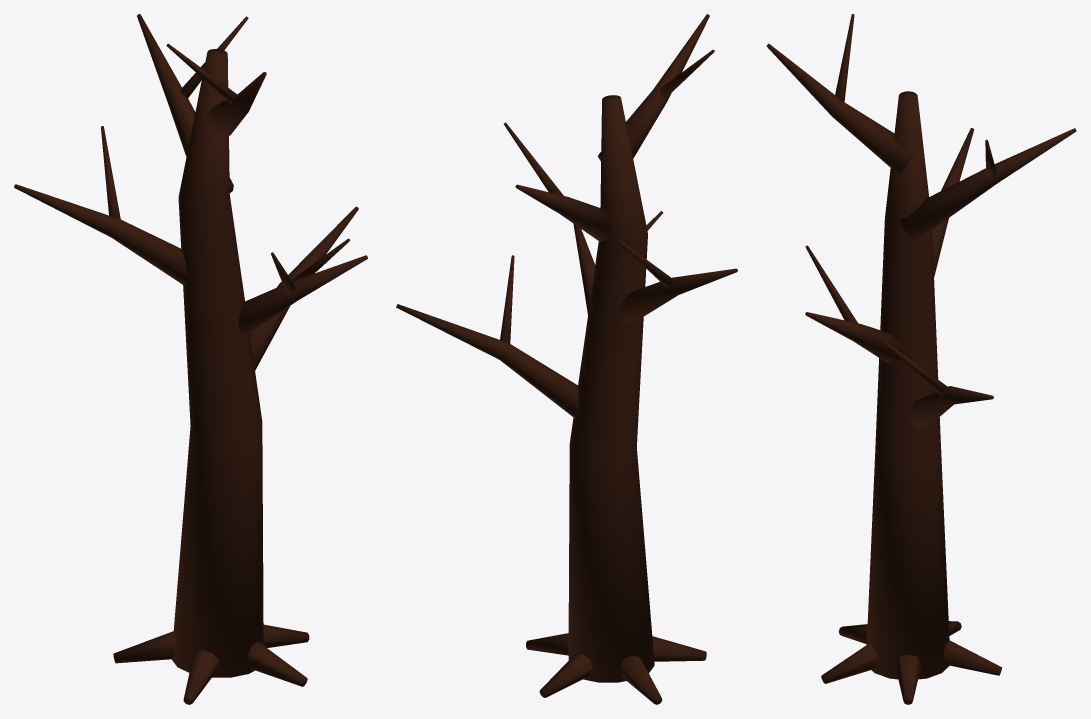
Rendered from dead_tree.obj.
3 renders of one model, left to right at view 1: azimuth 30°, elevation 25°; view 2: azimuth 150°, elevation 25°; view 3: azimuth 270°, elevation 25°, orthographic. The views are drawn at different scales.
Parts seen in each view (by area): view 1: LH_dead_tree; view 2: LH_dead_tree; view 3: LH_dead_tree.
Part boxes in pixels (box(x1,y1,x2,y2)): LH_dead_tree: box(14, 14, 367, 704); LH_dead_tree: box(396, 14, 737, 704); LH_dead_tree: box(766, 14, 1076, 704).
Bounding box in the file's own units: 0.7957 × 1.42 × 0.647.
